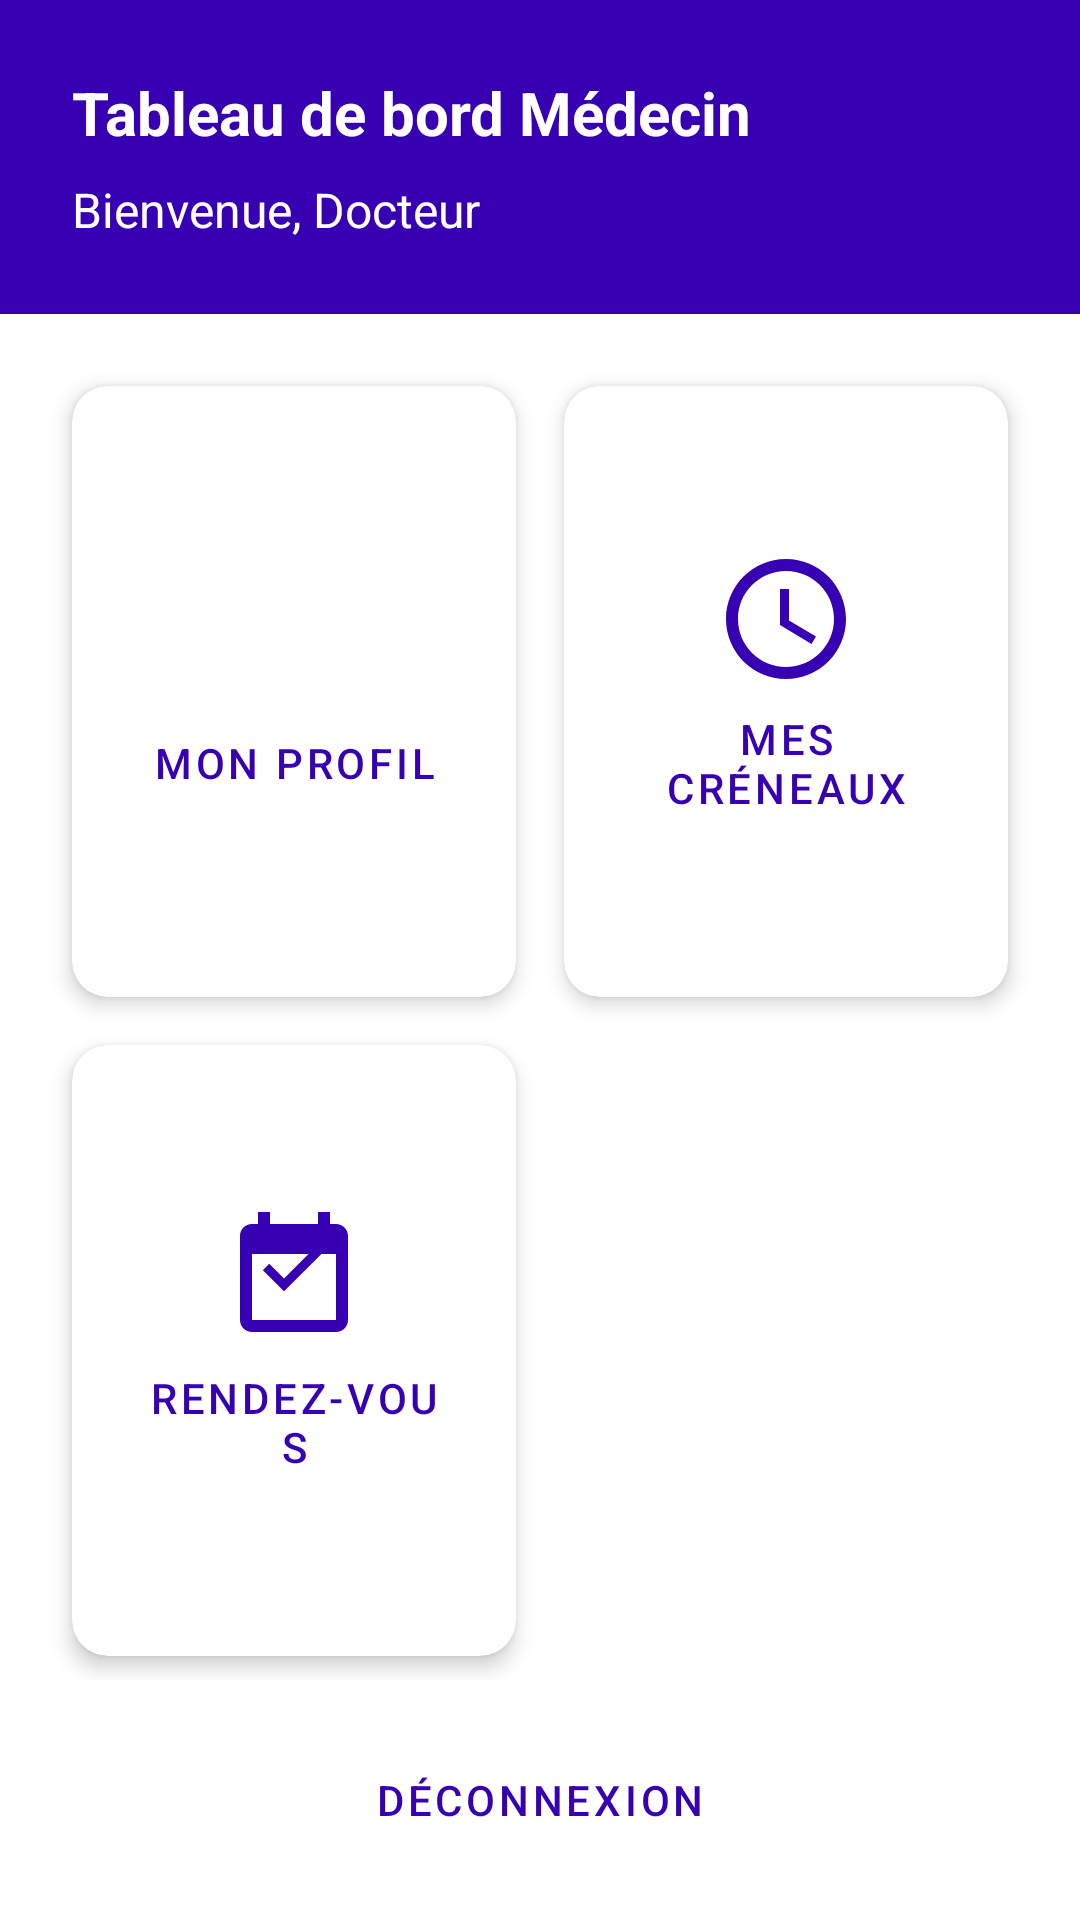

Screen size 1080 × 1920. Icon name, then its box in pixels as {"x1": x1, "y1": y1, "x2": x2, "y2": y2}:
calendar check: {"x1": 240, "y1": 1212, "x2": 348, "y2": 1332}
schedule: {"x1": 726, "y1": 559, "x2": 846, "y2": 679}
